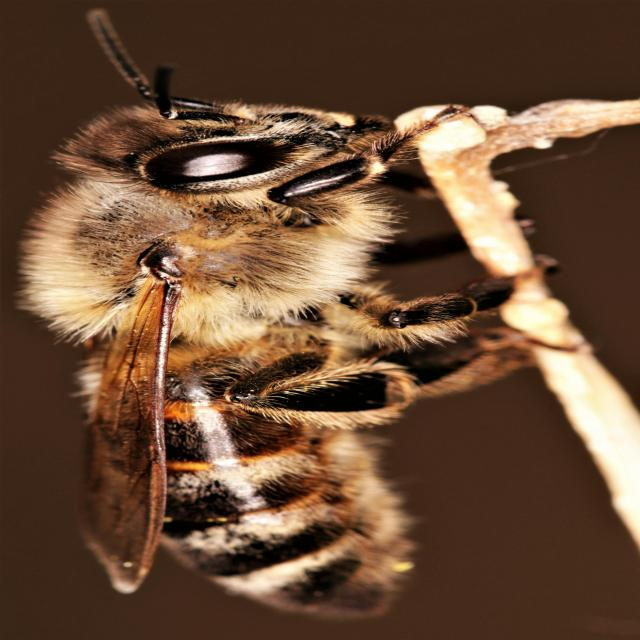bee: (19, 9, 586, 626)
